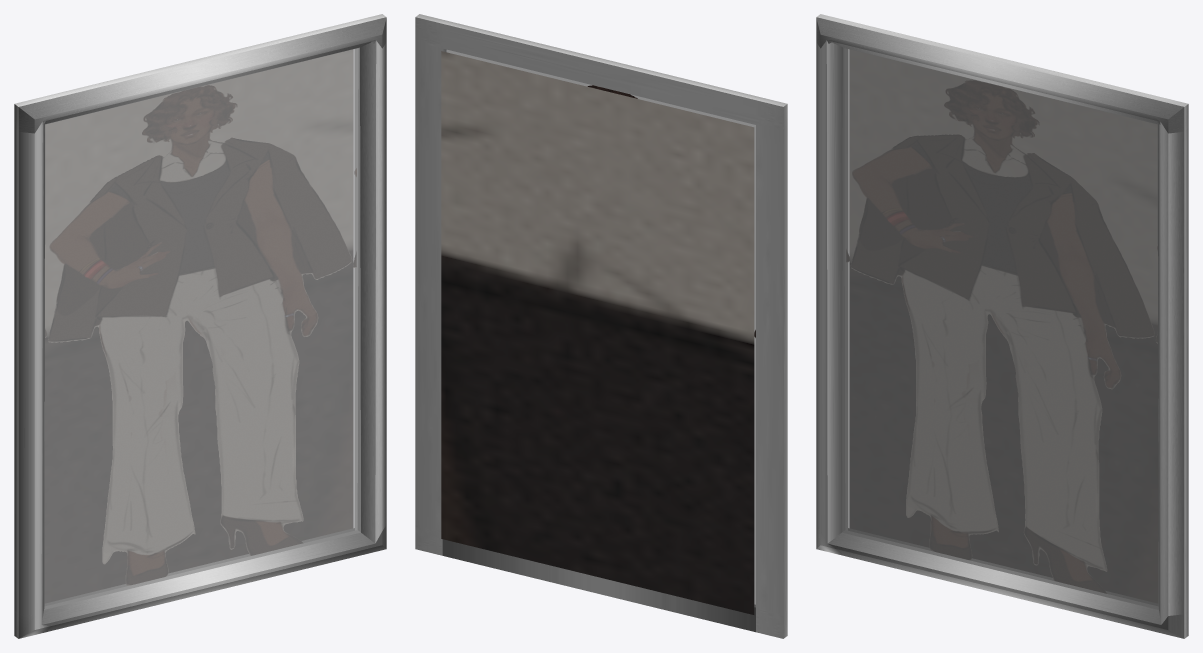
Rendered from Po of doleres.fbx.
3 views of the same model, side by side, from view 1: azimuth 30°, elevation 25°; view 2: azimuth 150°, elevation 25°; view 3: azimuth 330°, elevation 25° (orthographic).
Parts seen in each view (by area): view 1: polySurface297__1_1, polySurface69__1_1, polySurface475__1_1; view 2: polySurface69__1_1, polySurface475__1_1, polySurface297__1_1; view 3: polySurface297__1_1, polySurface69__1_1, polySurface475__1_1.
Boxes of the visible parts, x1,y1,x2,y2 form: polySurface297__1_1: (44,47,360,609); polySurface69__1_1: (45,50,356,602); polySurface475__1_1: (14,14,386,638); polySurface69__1_1: (441,51,755,614); polySurface475__1_1: (415,14,787,638); polySurface297__1_1: (443,49,755,607); polySurface297__1_1: (842,47,1158,609); polySurface69__1_1: (846,50,1157,602); polySurface475__1_1: (816,14,1188,638).
Bounding box in the file's own units: 114 × 158 × 6.72.
